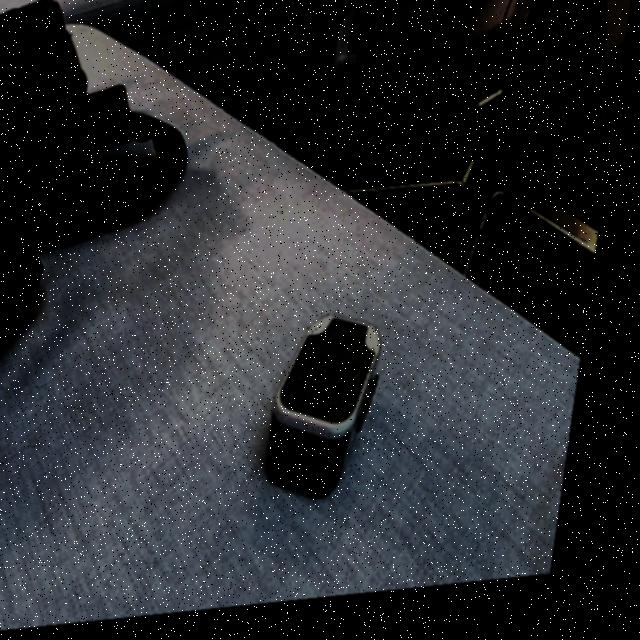adapter: (273, 316, 399, 511)
